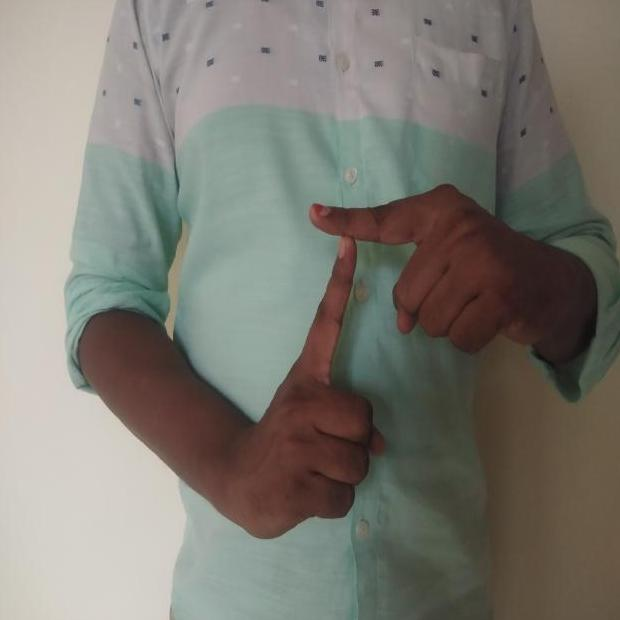S: (239, 161, 539, 545)
